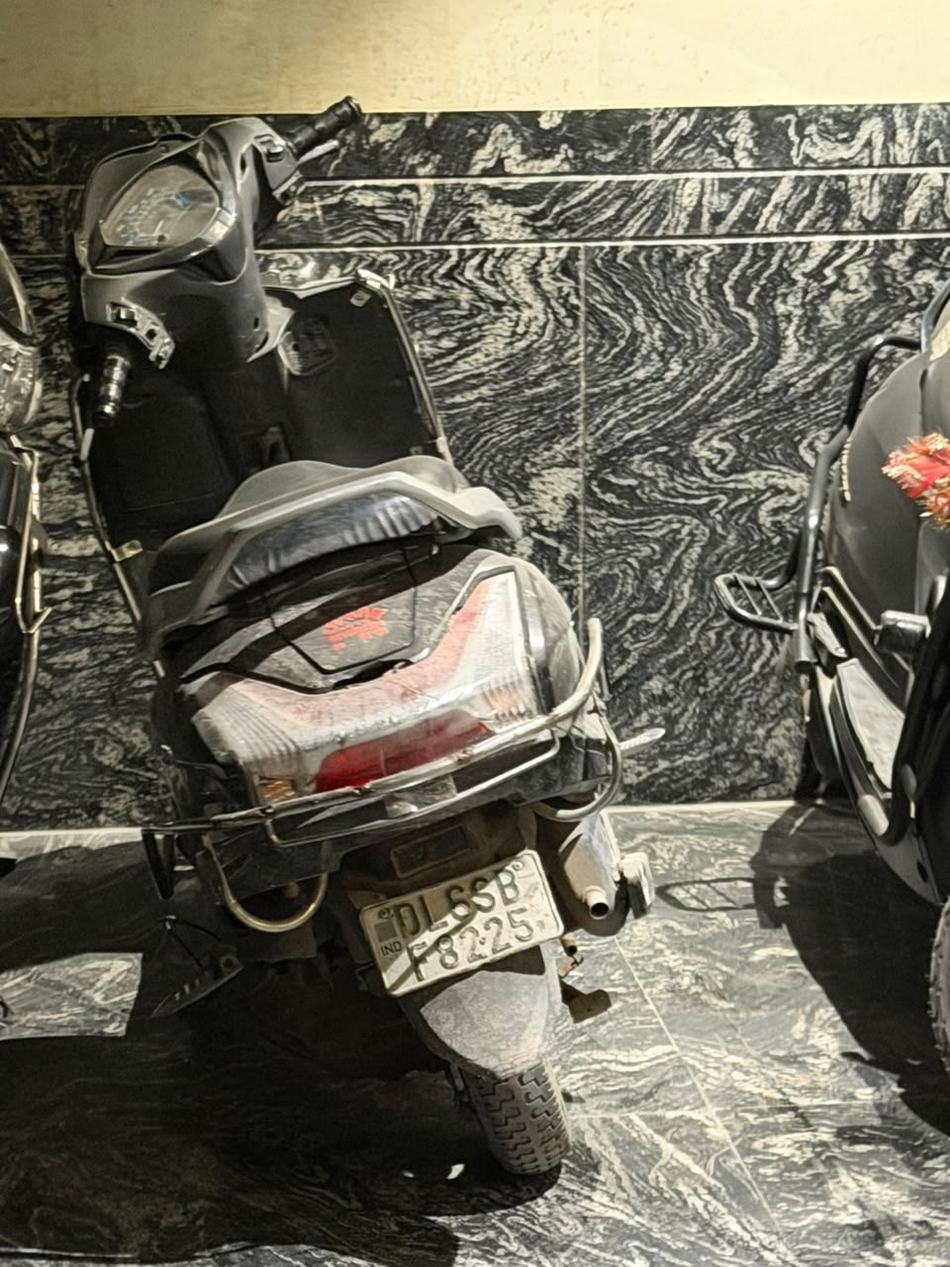vehicle: (350, 847, 567, 996)
